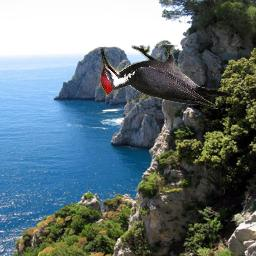Woodpecker: (100, 45, 232, 109)
